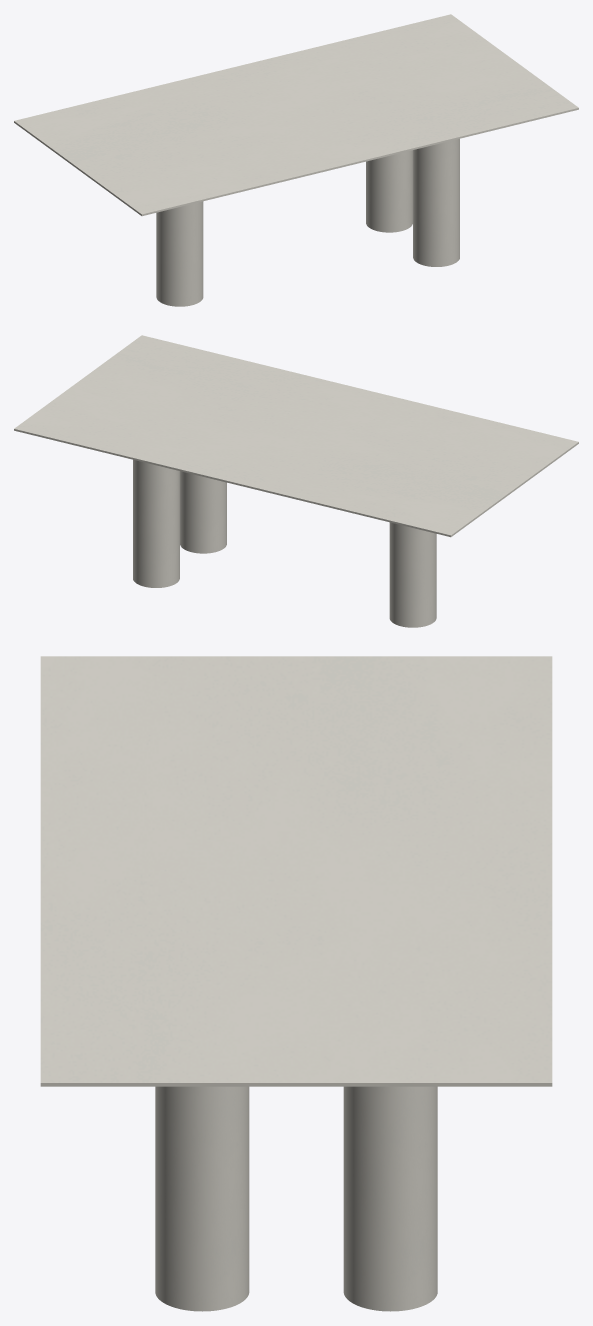
The model's file is pale_recta_facet_cylinder.glb.
3 views of the same model, one above another, from view 1: azimuth 30°, elevation 25°; view 2: azimuth 150°, elevation 25°; view 3: azimuth 270°, elevation 25° (orthographic). The views are drawn at different scales.
Parts seen in each view (by area): view 1: facet_recta, cylinder; view 2: facet_recta, cylinder; view 3: facet_recta, cylinder.
Boxes of the visible parts, <box> form: facet_recta: <box>14,14,578,216</box>; cylinder: <box>156,138,459,306</box>; facet_recta: <box>14,335,578,537</box>; cylinder: <box>133,459,436,627</box>; facet_recta: <box>40,656,552,1086</box>; cylinder: <box>155,1086,437,1311</box>.
Size of the model in its own units: 7.5 by 2.53 by 3.8.
Materials: 1 (1 with a texture image).
